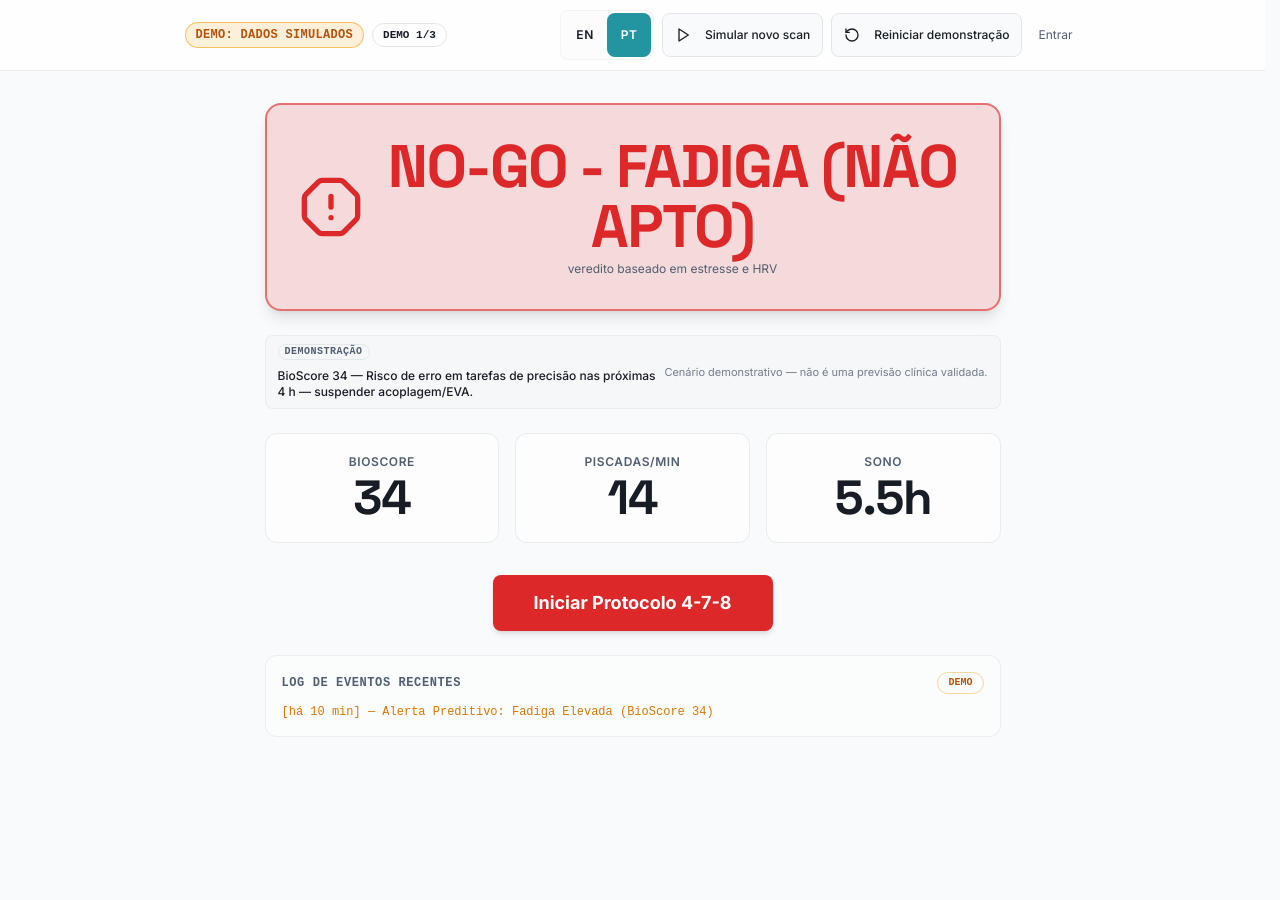
Test case: Demo Page (/demo) - Demonstração Pública sem Login e sem Rede › Fluxos em Português (initialLang="pt") › PUB-03: fluxo completo guiado 1 (NO-GO, 34) -> Ação Primária -> 2 (ATENÇÃO, 52) -> Scan -> 3 (GO, 72)
Expected: the text "NO-GO - FADIGA (NÃO APTO)" is shown, [378,137,966,257]
Expected: the text "34" is shown, [353,474,410,522]
Click the button "Iniciar Protocolo 4-7-8" at {"x": 632, "y": 603}, box [492,575,772,631]
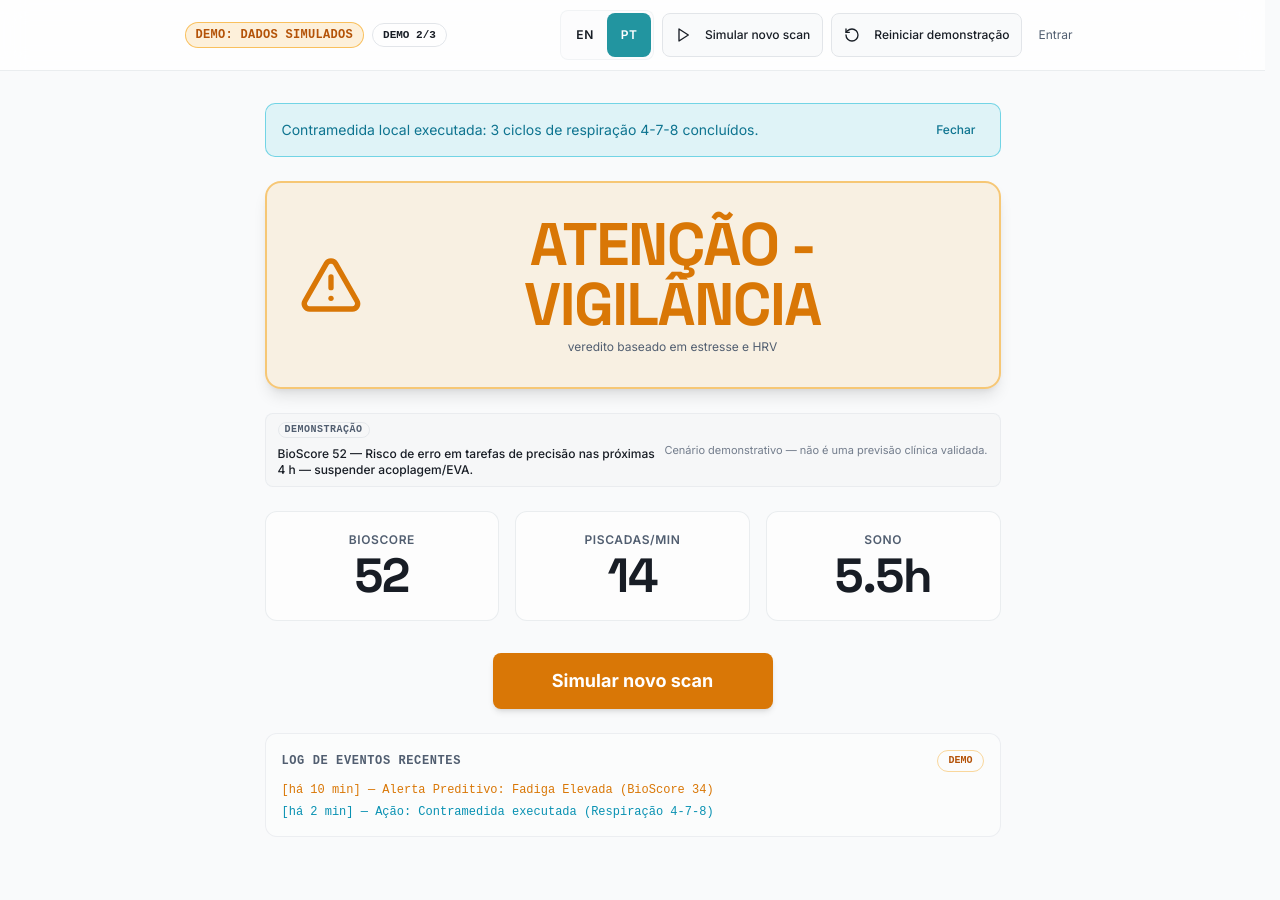
Now the text "ATENÇÃO - VIGILÂNCIA" is shown, box [524,206,821,343]
Now the text "52" is shown, box [355,552,409,600]
Now the text "Contramedida local executada: 3 ciclos de respiração 4-7-8 concluídos." is shown, box [282,120,758,140]
# Act 2: Aciona simular novo scan
Click the button "Simular novo scan" in the row of "Entrar" at {"x": 743, "y": 35}, box [662,13,823,57]
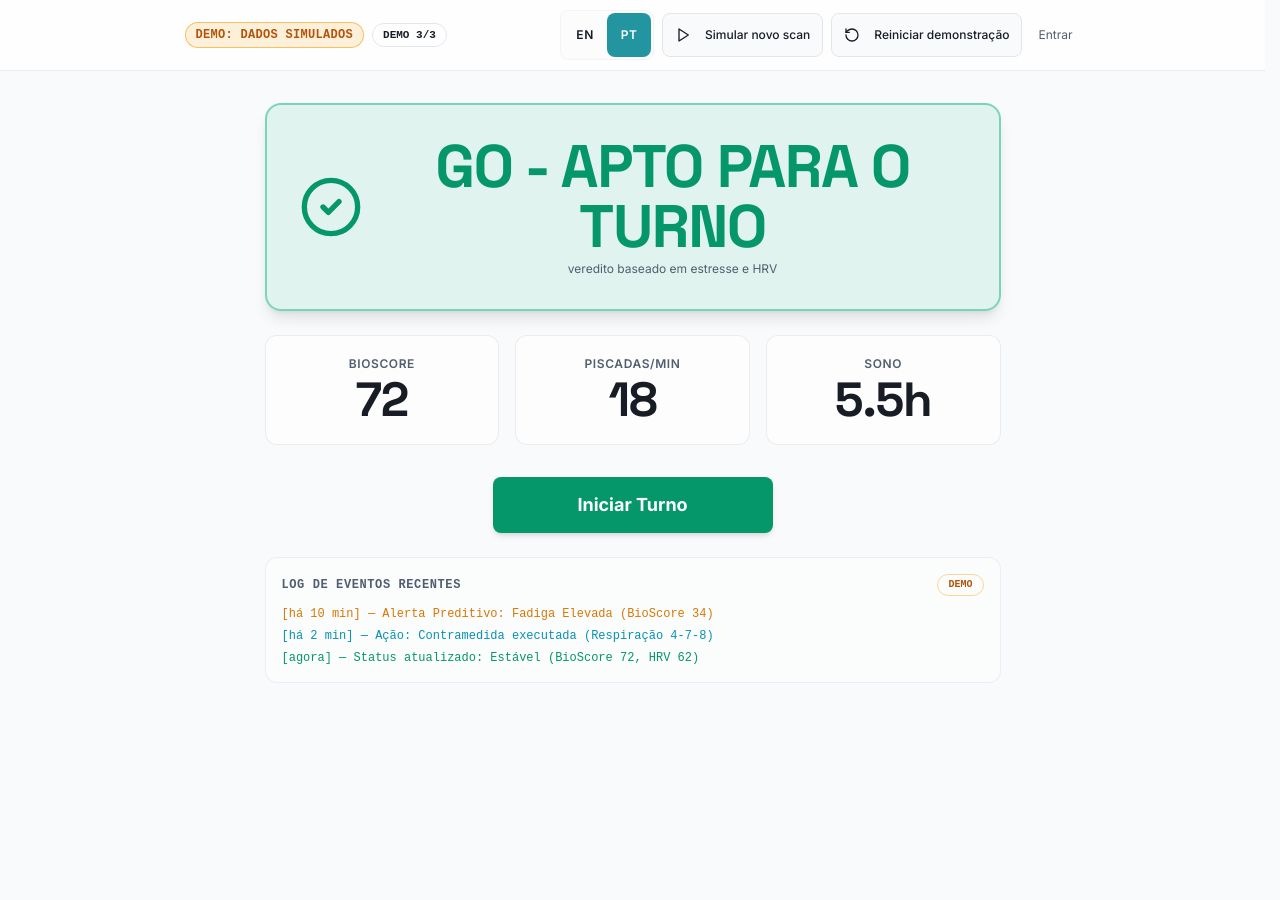
Now the text "GO - APTO PARA O TURNO" is shown, box [435,128,910,265]
Now the text "72" is shown, box [356,376,408,424]
# Act 3: Iniciar Turno na etapa 3
Click the button "Iniciar Turno" at {"x": 632, "y": 505}, box [492,477,772,533]
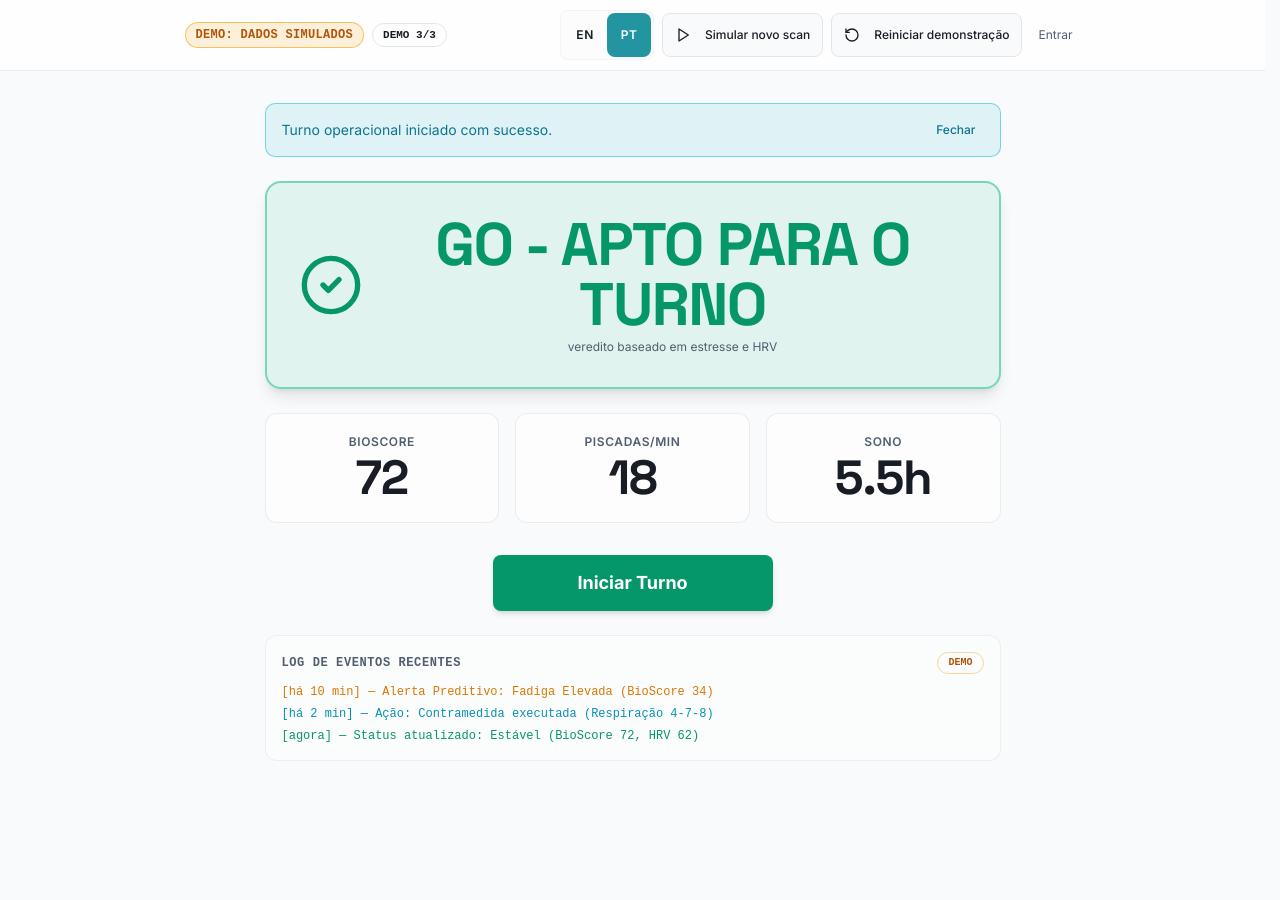
Now the text "Turno operacional iniciado com sucesso." is shown, box [282,120,552,140]
